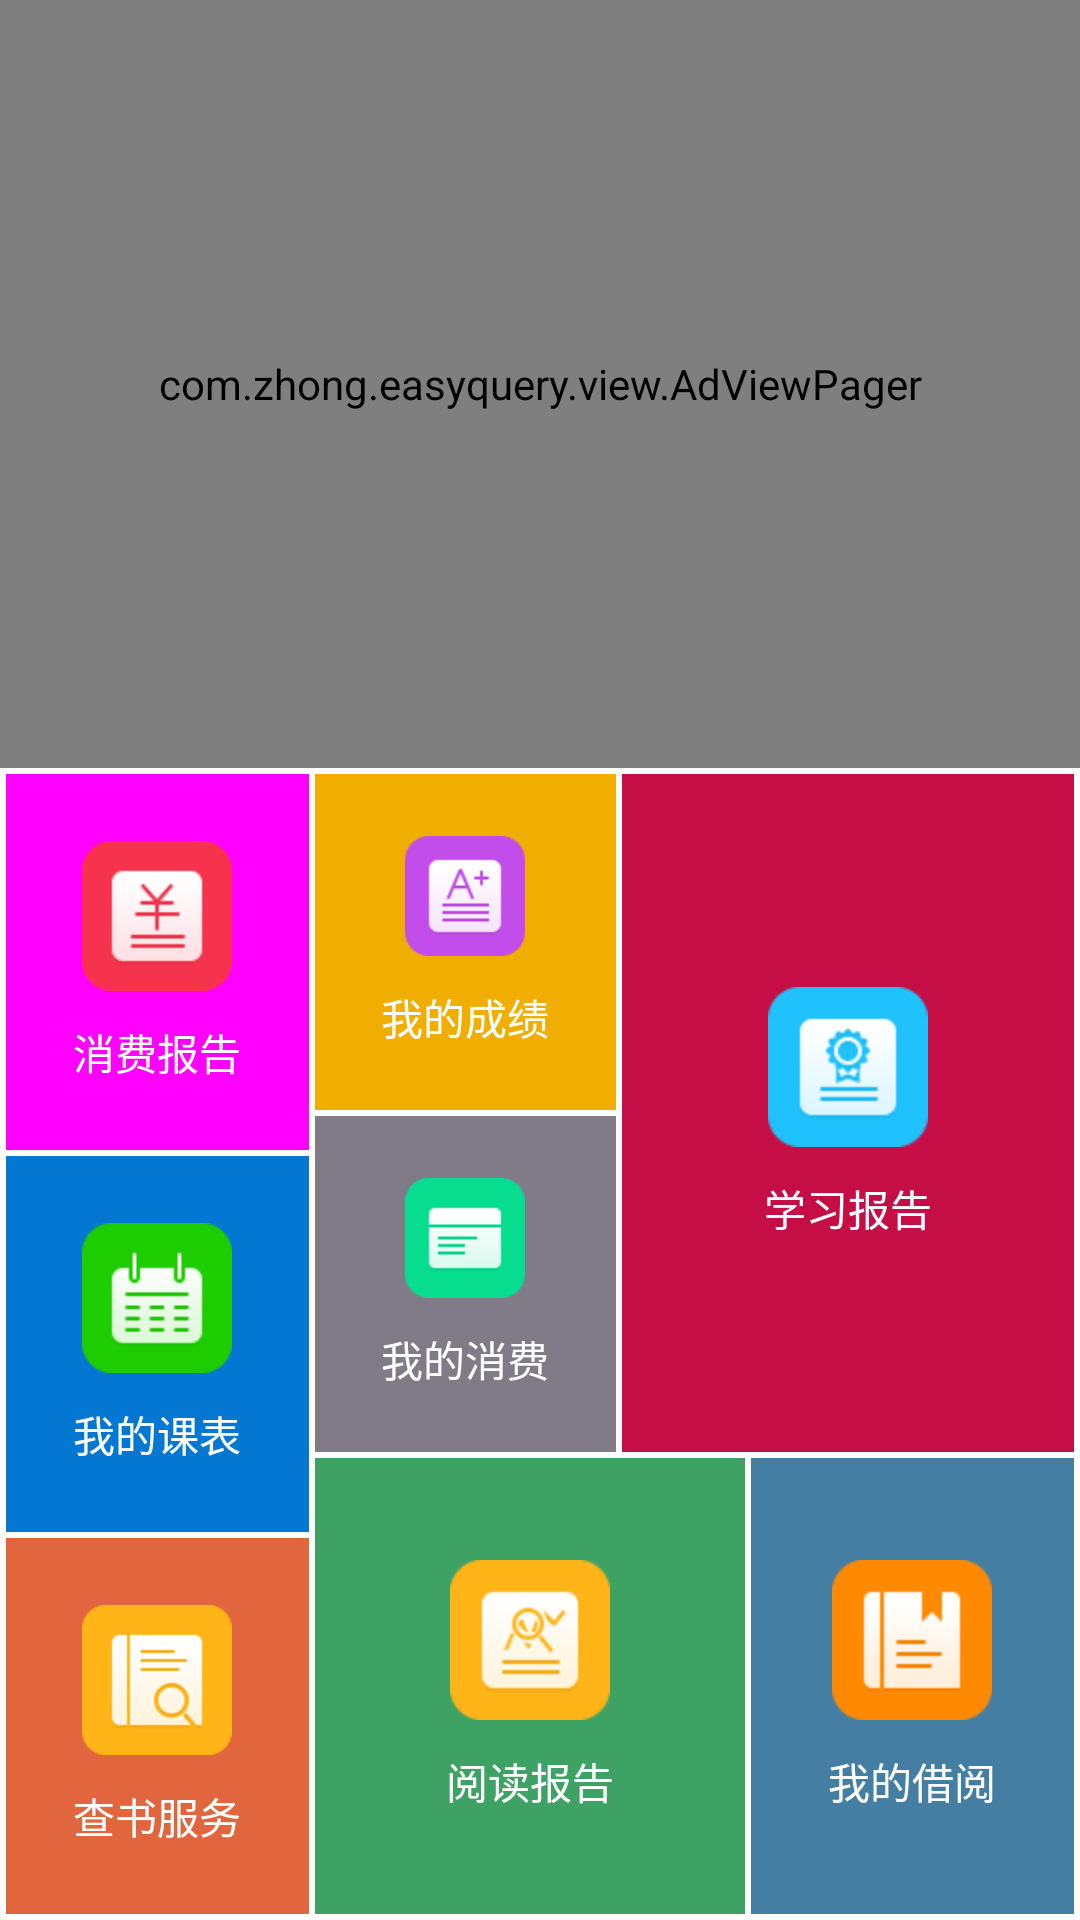

Point at icon controls on the screen. Image size 1080*1920, points as [x,y].
onecard: [465,1238]
